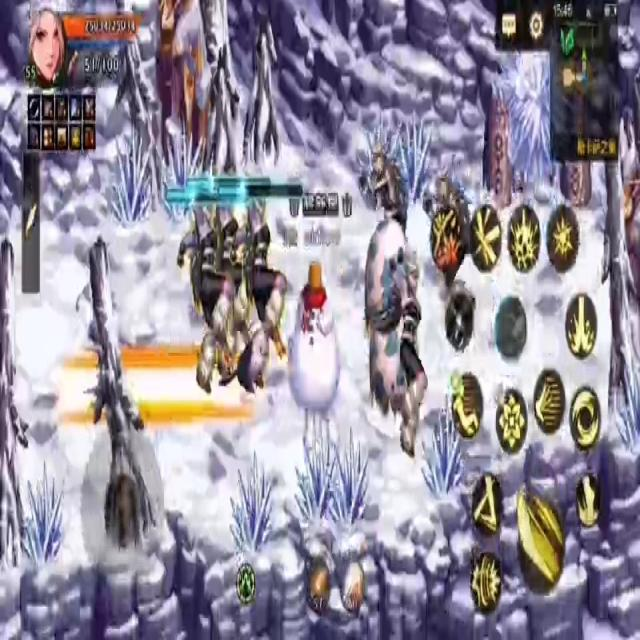player: (287, 256, 342, 464)
